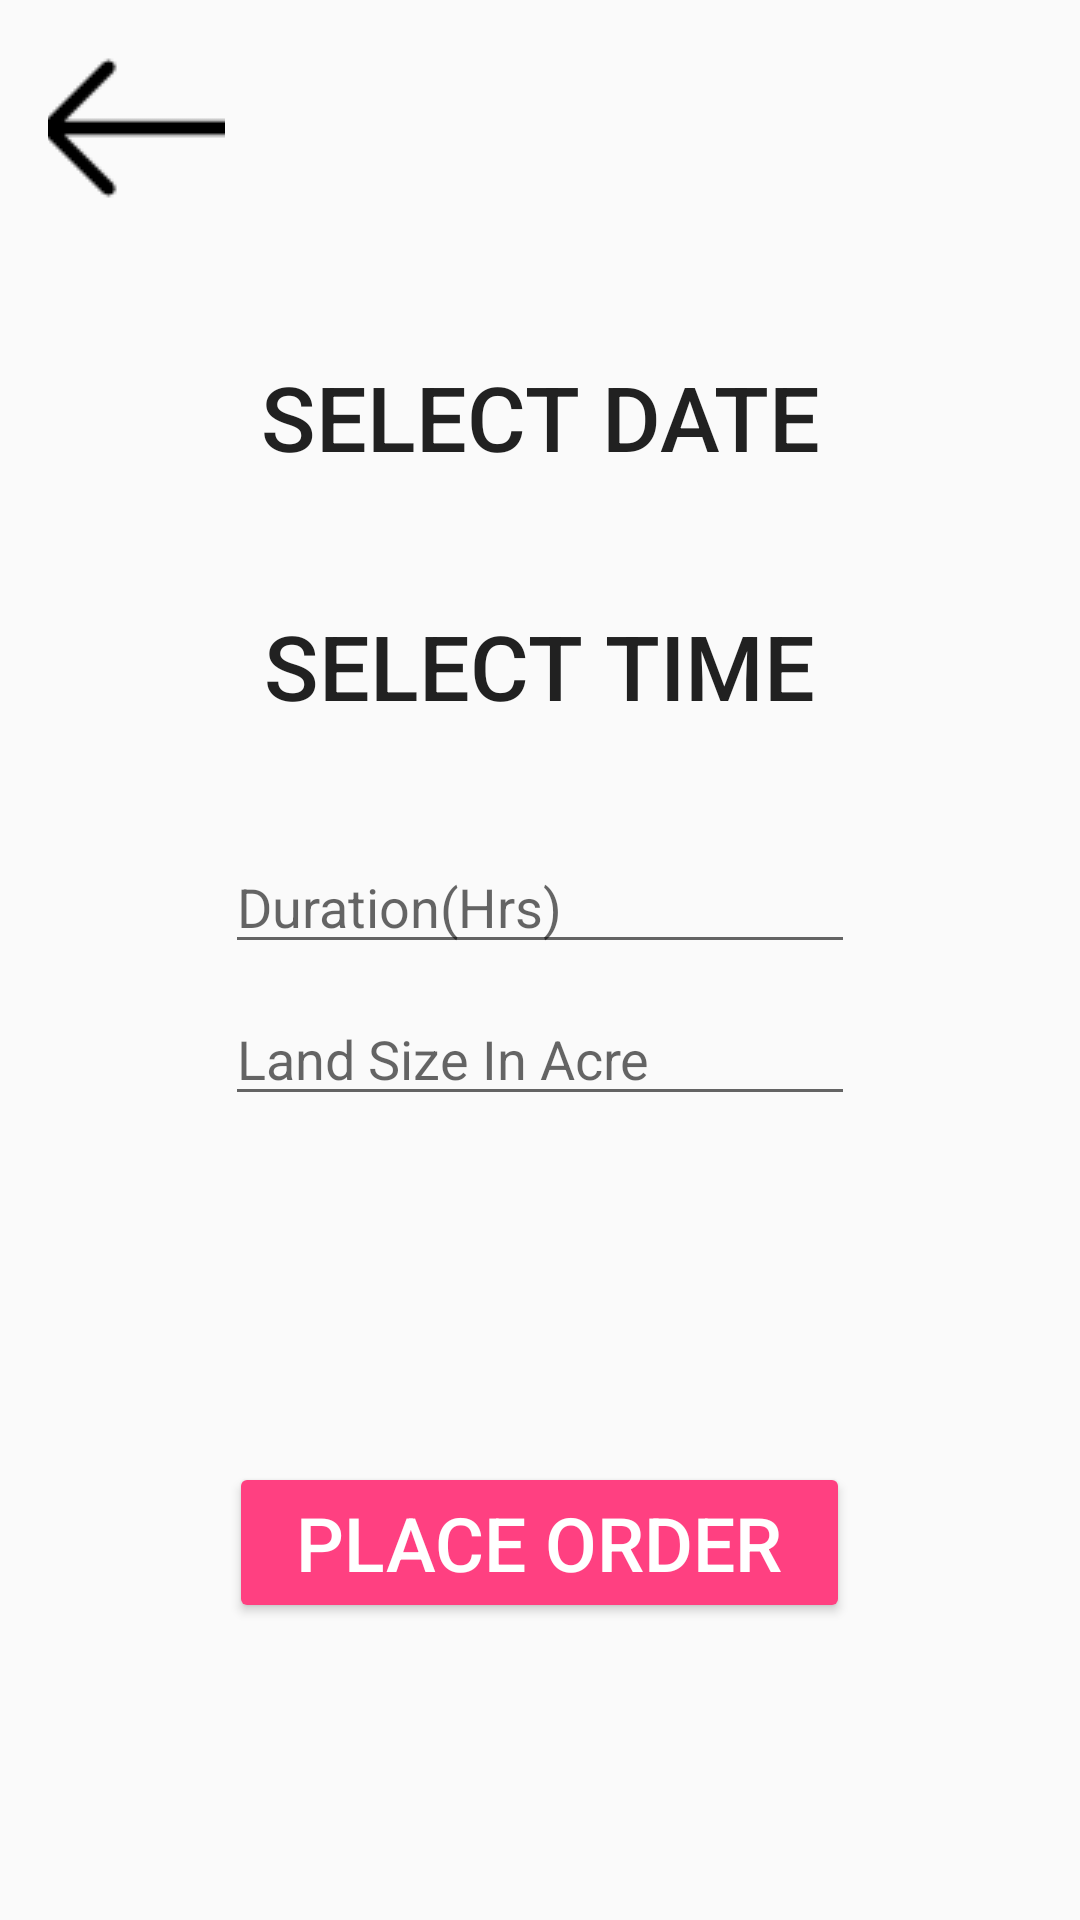

Icons on this 1080 x 1920 Android screen, each with its box as [x1,y1,x2,y2]:
left arrow: [48,58,225,198]
